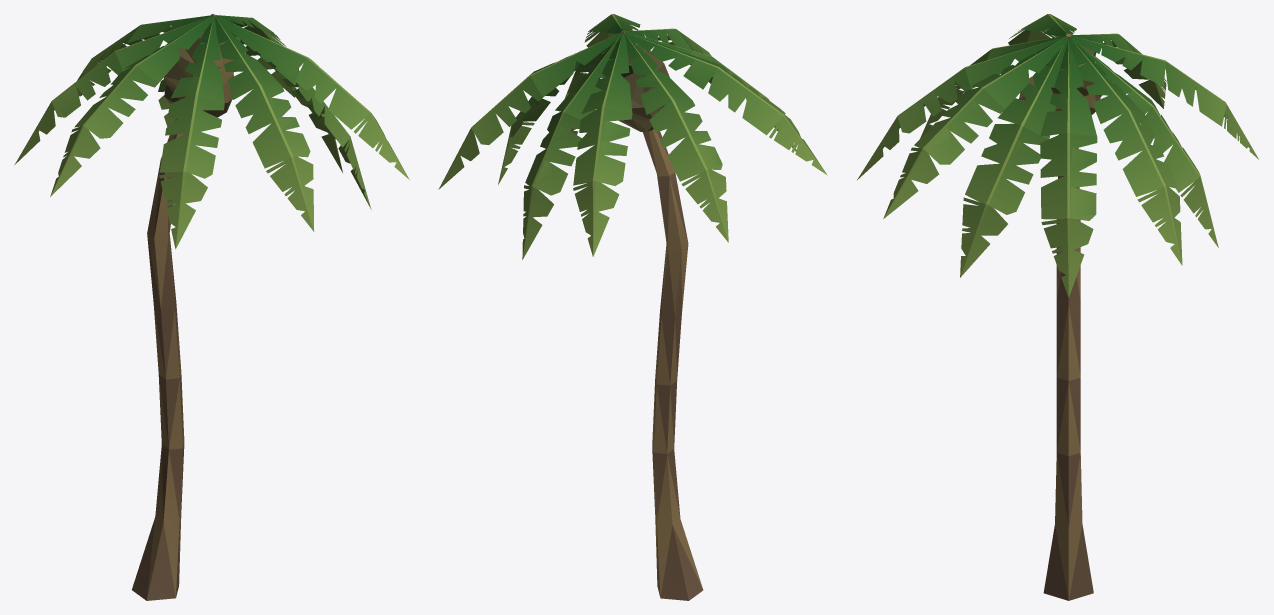
The model's file is Tree_2.fbx.
The picture shows the model from 3 angles, left to right: view 1: azimuth 30°, elevation 25°; view 2: azimuth 150°, elevation 25°; view 3: azimuth 270°, elevation 25°; orthographic projection. The views are drawn at different scales.
Visible parts, largest first — view 1: polySurface537; view 2: polySurface537; view 3: polySurface537.
Part boxes in pixels (x1=…): polySurface537: x1=14, y1=14, x2=409, y2=600; polySurface537: x1=438, y1=14, x2=827, y2=600; polySurface537: x1=857, y1=14, x2=1258, y2=600.
Bounding box in the file's own units: 1071 × 1784 × 1116.
